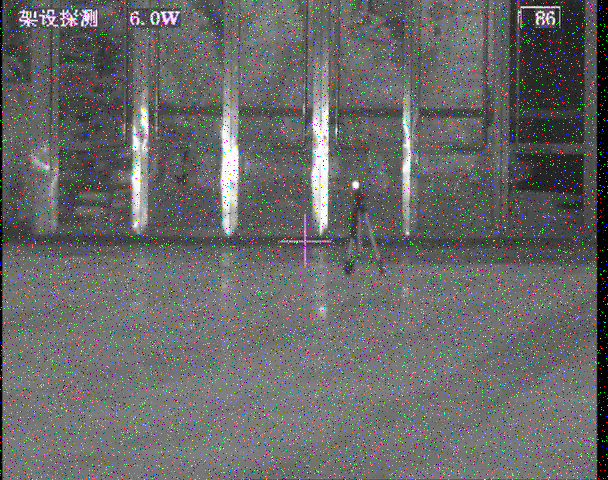my: (350, 180, 359, 190)
